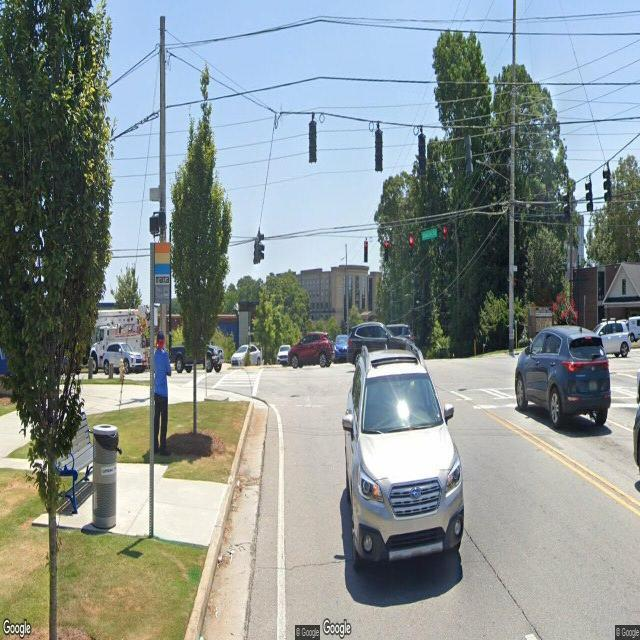seating: (55, 412, 93, 516)
trash_can: (92, 422, 118, 530)
